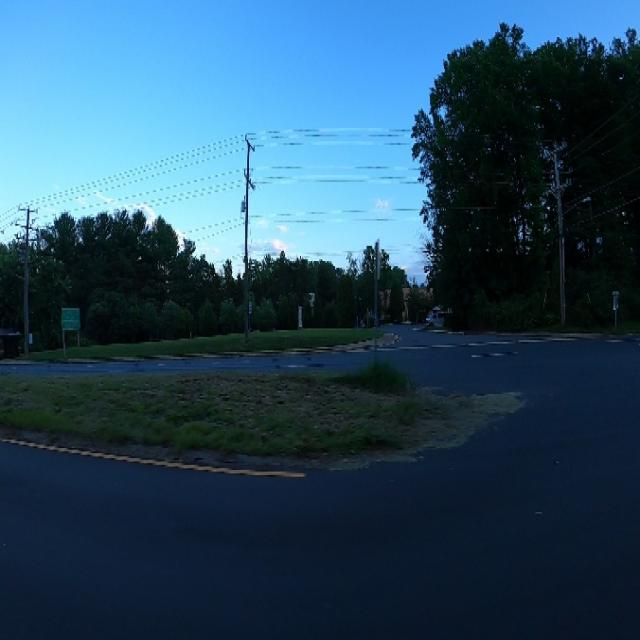cars: (424, 304, 454, 334)
